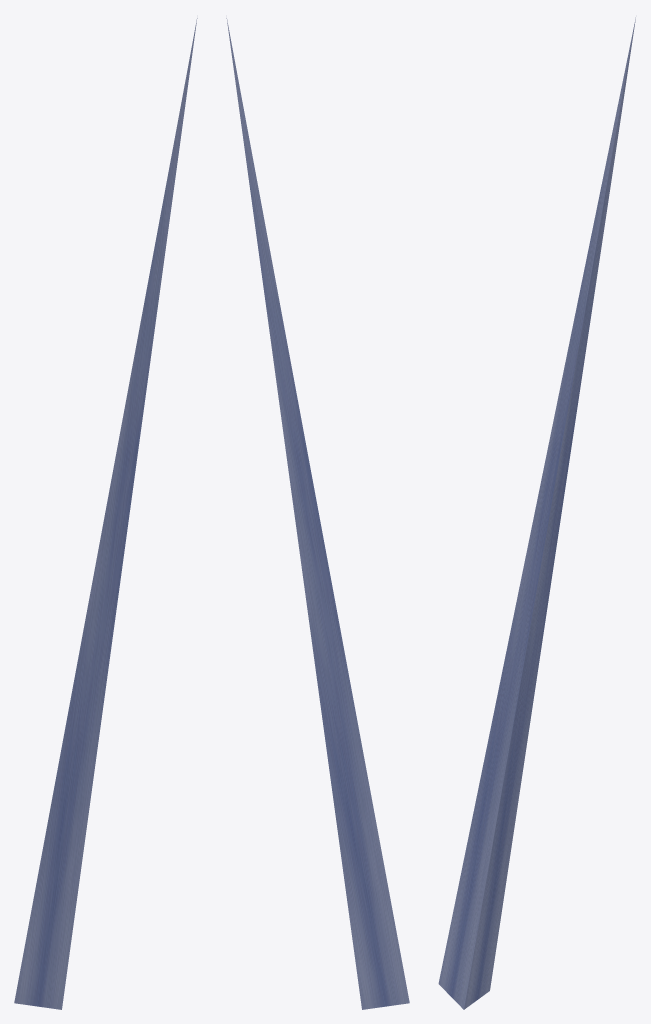
The picture shows the model from 3 angles, left to right: view 1: azimuth 30°, elevation 25°; view 2: azimuth 150°, elevation 25°; view 3: azimuth 330°, elevation 25°; orthographic projection. The views are drawn at different scales.
Visible parts, largest first — view 1: Cylinder05; view 2: Cylinder05; view 3: Cylinder05.
Boxes of the visible parts, x1,y1,x2,y2 form: Cylinder05: [14, 18, 197, 1009]; Cylinder05: [226, 18, 409, 1009]; Cylinder05: [438, 17, 635, 1009].
Bounding box in the file's own units: 301 × 1489 × 68.55.
Materials: 2 (2 with a texture image).
